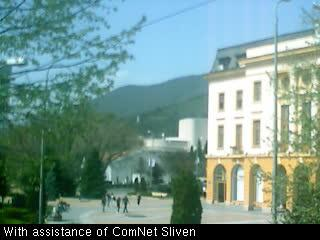person: (123, 195, 129, 216), (116, 196, 121, 214), (101, 195, 106, 213), (110, 193, 115, 209), (202, 186, 208, 199), (106, 193, 111, 208), (136, 193, 141, 207)
